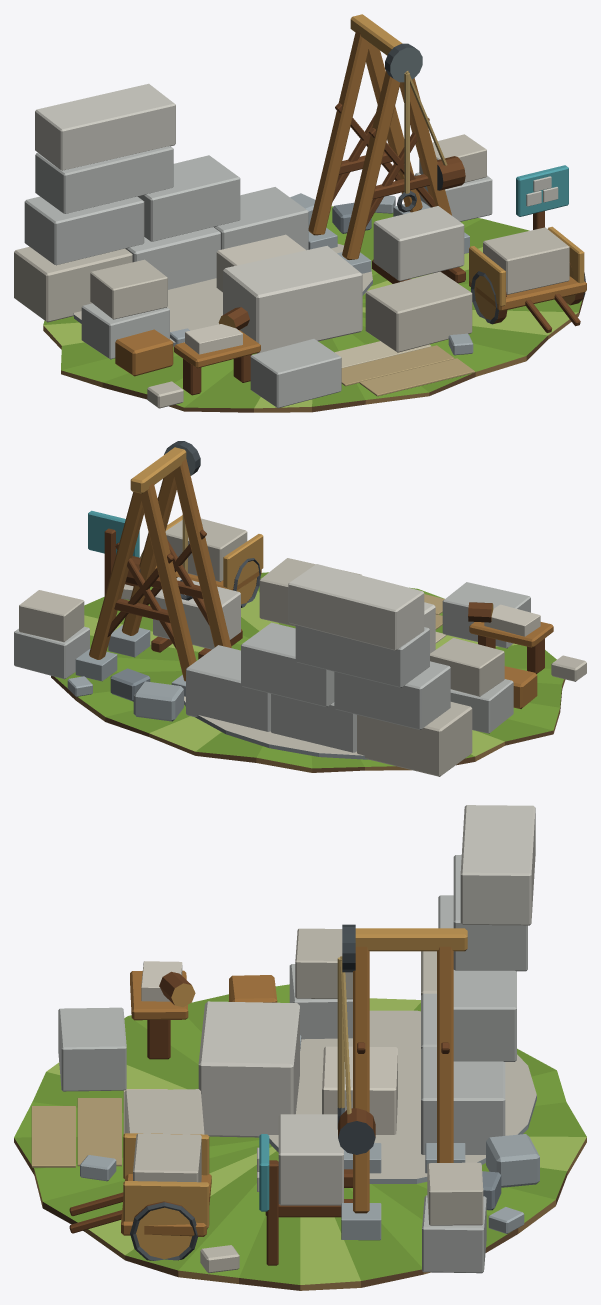
3 views of the same model, one above another, from view 1: azimuth 30°, elevation 25°; view 2: azimuth 150°, elevation 25°; view 3: azimuth 270°, elevation 25° (orthographic). The views are drawn at different scales.
Visible parts, largest first — view 1: WK_StoneQuarry_LOD1_Balanced.001; view 2: WK_StoneQuarry_LOD1_Balanced.001; view 3: WK_StoneQuarry_LOD1_Balanced.001.
Boxes of the visible parts, x1,y1,x2,y2 form: WK_StoneQuarry_LOD1_Balanced.001: (14, 14, 586, 412); WK_StoneQuarry_LOD1_Balanced.001: (14, 441, 586, 776); WK_StoneQuarry_LOD1_Balanced.001: (14, 805, 586, 1290).
Size of the model in its own units: 12.95 by 5.61 by 10.34.
